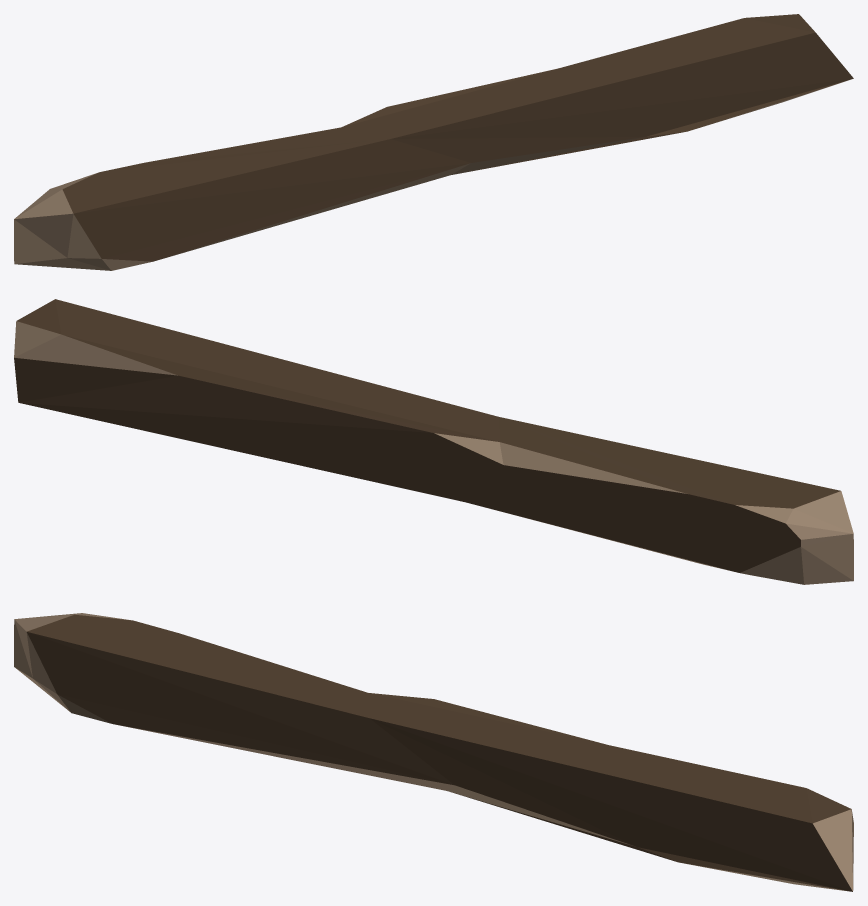
Rendered from Branch_01.FBX.
3 renders of one model, top to bottom at view 1: azimuth 30°, elevation 25°; view 2: azimuth 150°, elevation 25°; view 3: azimuth 330°, elevation 25°, orthographic. The views are drawn at different scales.
Visible parts, largest first — view 1: Branch_01; view 2: Branch_01; view 3: Branch_01.
Part boxes in pixels (left/top/right/bottom): Branch_01: left=14, top=14, right=853, bottom=270; Branch_01: left=14, top=299, right=853, bottom=584; Branch_01: left=14, top=613, right=853, bottom=891.
Size of the model in its own units: 2.35 by 0.1904 by 0.1904.
